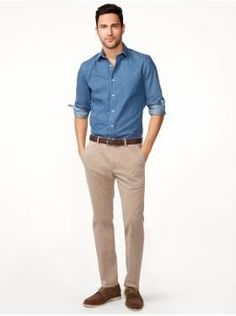NOTSAFE: (77, 4, 147, 149)
